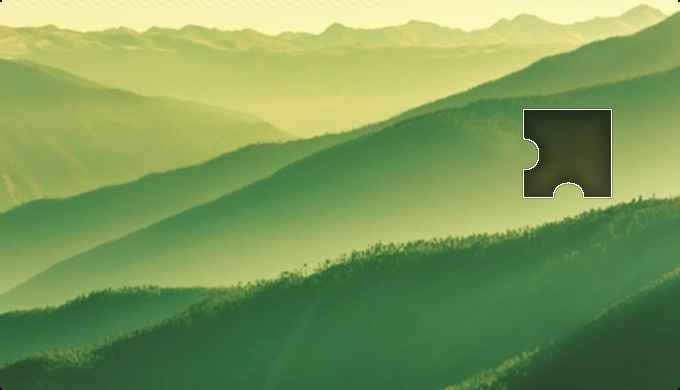gap: (524, 109, 611, 199)
